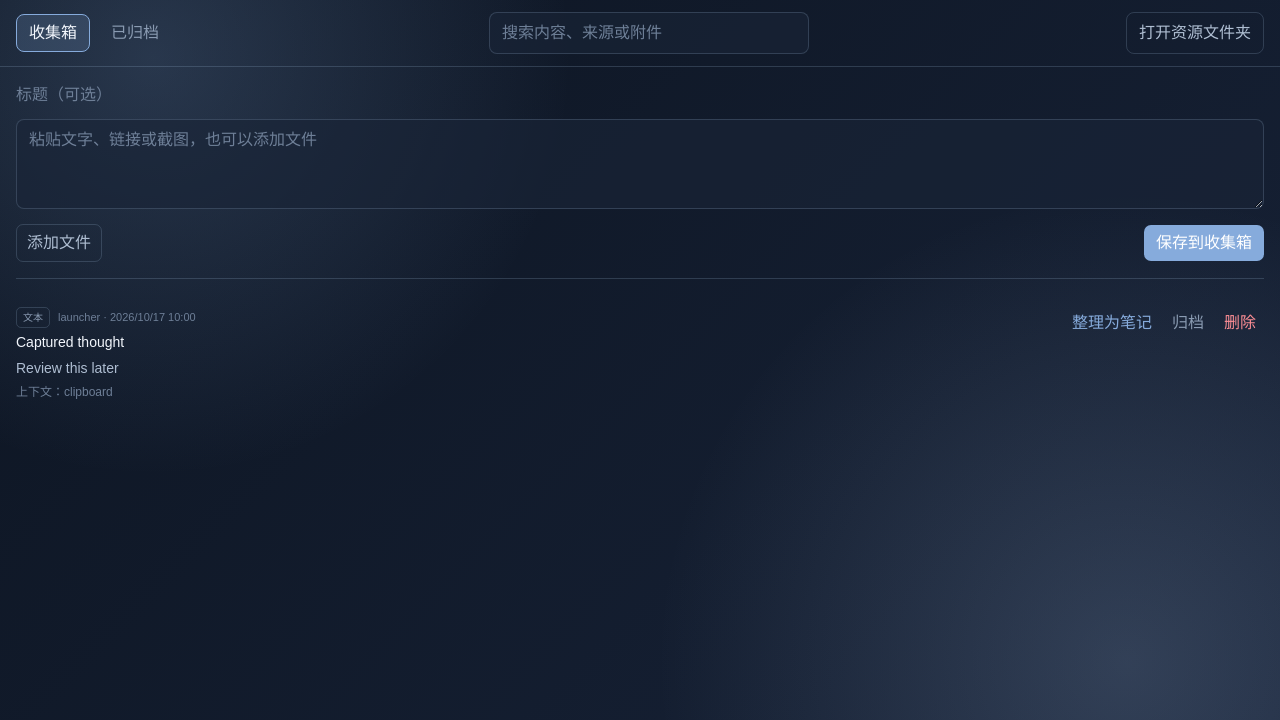
Test case: InboxPanel › deletes an item after the user confirms and refreshes the list
The width and height of the screenshot is (1280, 720).
Expected: the heading "Captured thought" is shown, 16,334 -> 124,350
Click the button "删除" at (1240, 323), box 1216,307 -> 1264,339
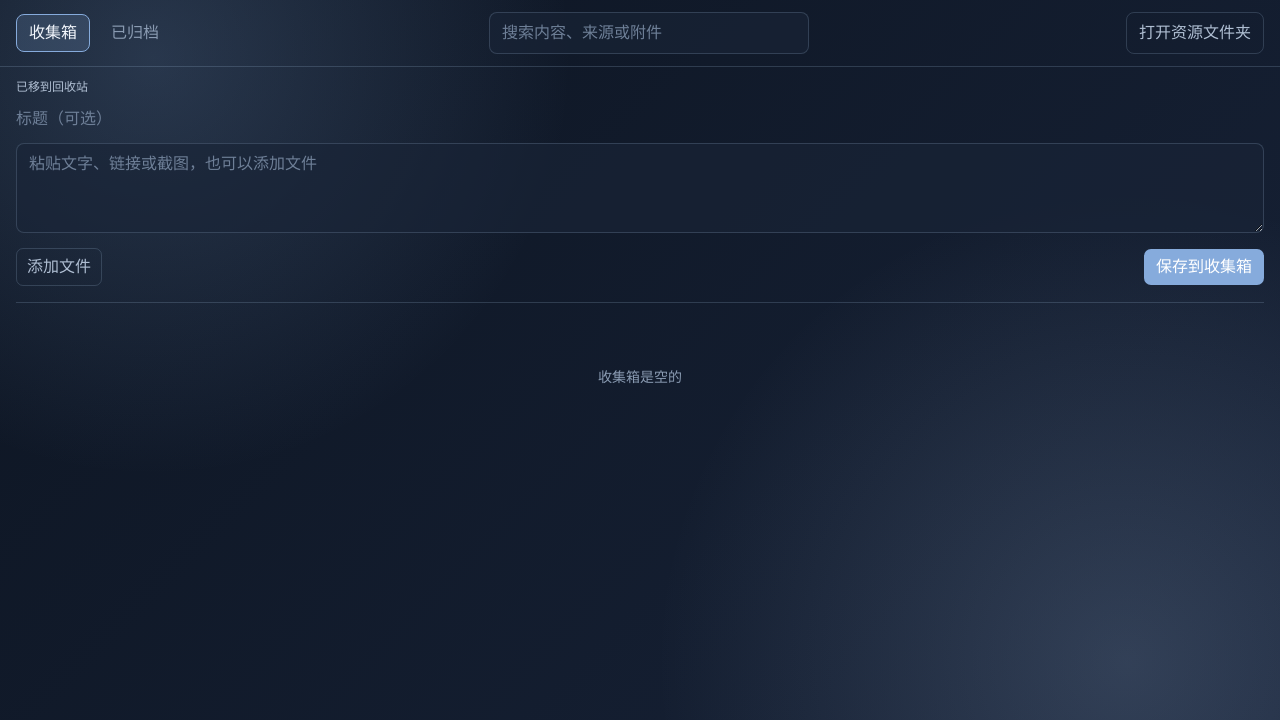
Result: the message reads "已移到回收站" at 16,80 -> 88,94
